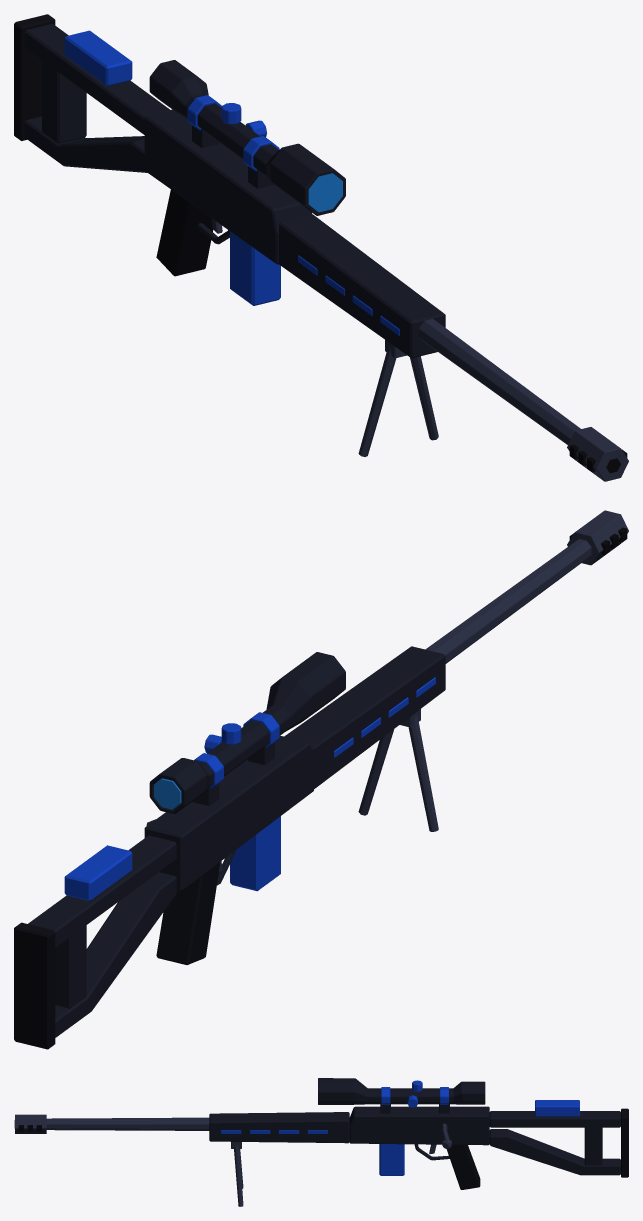
Rendered from myw_sniperrifle.obj.
3 views of the same model, one above another, from view 1: azimuth 30°, elevation 25°; view 2: azimuth 150°, elevation 25°; view 3: azimuth 270°, elevation 25° (orthographic). The views are drawn at different scales.
Visible parts, largest first — view 1: Chassis, Scope, Barrel, Mag, Bipod; view 2: Chassis, Scope, Barrel, Mag, Bipod; view 3: Chassis, Scope, Barrel, Mag, Bipod.
Boxes of the visible parts, x1,y1,x2,y2 form: Chassis: (14, 14, 445, 358); Scope: (149, 60, 345, 215); Barrel: (418, 319, 628, 481); Mag: (230, 231, 280, 305); Bipod: (358, 340, 438, 456); Chassis: (14, 646, 445, 1049); Scope: (149, 652, 345, 814); Barrel: (425, 510, 628, 663); Mag: (230, 816, 280, 891); Bipod: (358, 709, 438, 831); Chassis: (209, 1100, 628, 1189); Scope: (318, 1078, 485, 1113); Barrel: (14, 1114, 209, 1133); Mag: (379, 1144, 404, 1175); Bipod: (231, 1142, 243, 1206).
Size of the model in its own units: 0.642 by 1.43 by 6.8.
